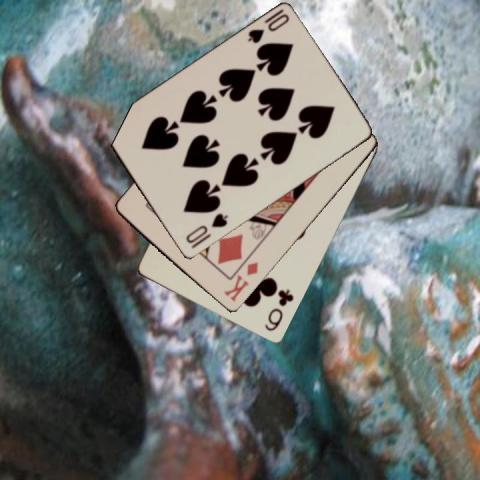10s: (182, 211, 229, 245), (244, 11, 290, 45)
6c: (262, 287, 296, 333)
Kd: (220, 260, 260, 303)
